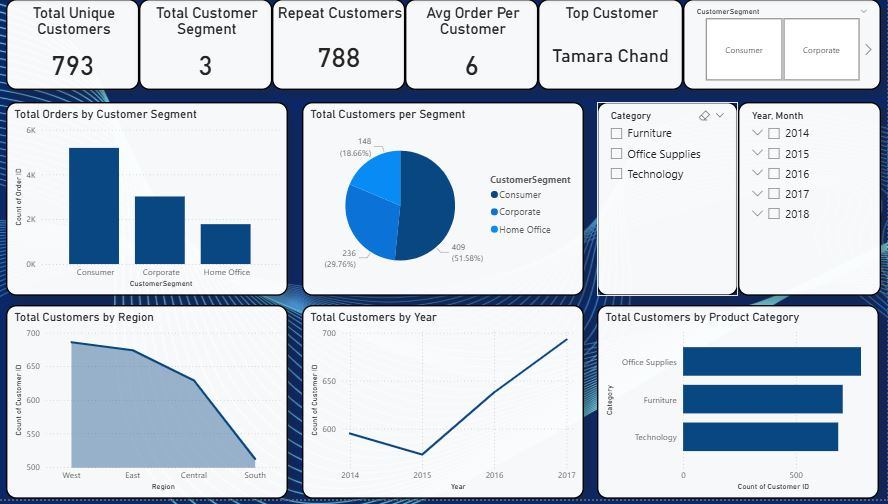

The page's visual inventory and layout, read from the dashboard file:
{"tool":"powerbi","page":{"name":"Customer","canvas":[1280,720],"ordinal":2},"visuals":[{"type":"card","title":"Total Unique Customers","fields":{"Values":["Count(Customers.Customer ID)"]},"box":[10.1,0,191.5,131],"z":0},{"type":"card","title":"Total Customer Segment","fields":{"Values":["Count(Customers.Segment)"]},"box":[201.6,0,191.5,131],"z":1000},{"type":"card","title":"Repeat Customers","fields":{"Values":["Customers.RepeatCustomers"]},"box":[393.1,0,191.5,131],"z":2000},{"type":"card","title":"Avg Order Per Customer","fields":{"Values":["Customers.c"]},"box":[584.6,0,191.5,131],"z":3000},{"type":"clusteredColumnChart","title":"Total Orders by Customer Segment","fields":{"Category":["Customers.CustomerSegment"],"Y":["CountNonNull(Orders.Order ID)"]},"box":[10.1,148.3,406.1,279.4],"z":4000},{"type":"pieChart","title":"Total Customers per Segment","fields":{"Category":["Customers.CustomerSegment"],"Y":["Count(Customers.Customer ID)"]},"box":[436.3,148.3,406.1,279.4],"z":5000},{"type":"areaChart","title":"Total Customers by Region","fields":{"Category":["Orders.Region"],"Y":["Count(Orders.Customer ID)"]},"box":[10.1,440.6,406.1,279.4],"z":6000},{"type":"lineChart","title":"Total Customers by Year","fields":{"Category":["Dim Date.Date.Variation.Date Hierarchy.Year","Dim Date.Date.Variation.Date Hierarchy.Quarter","Dim Date.Date.Variation.Date Hierarchy.Month"],"Y":["Count(Orders.Customer ID)"]},"box":[436.3,440.6,406.1,279.4],"z":7000},{"type":"clusteredBarChart","title":"Total Customers by Product Category","fields":{"Category":["Products.Category"],"Y":["Count(Orders.Customer ID)"]},"box":[861.1,440.6,406.1,279.4],"z":8000},{"type":"card","title":"Top Customer","fields":{"Values":["Min(TopCustomer.Top Customer)"]},"box":[776.2,0,208.8,131],"z":9000},{"type":"slicer","fields":{"Values":["Customers.CustomerSegment"]},"box":[985,0,285.1,131],"z":10000},{"type":"slicer","fields":{"Values":["Products.Category"]},"box":[861.1,148.3,203,279.4],"z":11000},{"type":"slicer","fields":{"Values":["Dim Date.Date.Variation.Date Hierarchy.Year","Dim Date.Date.Variation.Date Hierarchy.Month"]},"box":[1064.2,148.3,205.9,279.4],"z":12000}]}

Visuals, with their boxes in screenshot pixels (x1, y1, x2, y2), scaled from the page's 1280x720 canvas onto the 888x504 screenshot:
"Total Unique Customers" card: x1=7, y1=0, x2=140, y2=92
"Total Customer Segment" card: x1=140, y1=0, x2=273, y2=92
"Repeat Customers" card: x1=273, y1=0, x2=406, y2=92
"Avg Order Per Customer" card: x1=406, y1=0, x2=538, y2=92
"Total Orders by Customer Segment" clusteredColumnChart: x1=7, y1=104, x2=289, y2=299
"Total Customers per Segment" pieChart: x1=303, y1=104, x2=584, y2=299
"Total Customers by Region" areaChart: x1=7, y1=308, x2=289, y2=503
"Total Customers by Year" lineChart: x1=303, y1=308, x2=584, y2=503
"Total Customers by Product Category" clusteredBarChart: x1=597, y1=308, x2=879, y2=503
"Top Customer" card: x1=538, y1=0, x2=683, y2=92
slicer - Customers.CustomerSegment: x1=683, y1=0, x2=881, y2=92
slicer - Products.Category: x1=597, y1=104, x2=738, y2=299
slicer - Dim Date.Date.Variation.Date Hierarchy.Year x Dim Date.Date.Variation.Date Hierarchy.Month: x1=738, y1=104, x2=881, y2=299
